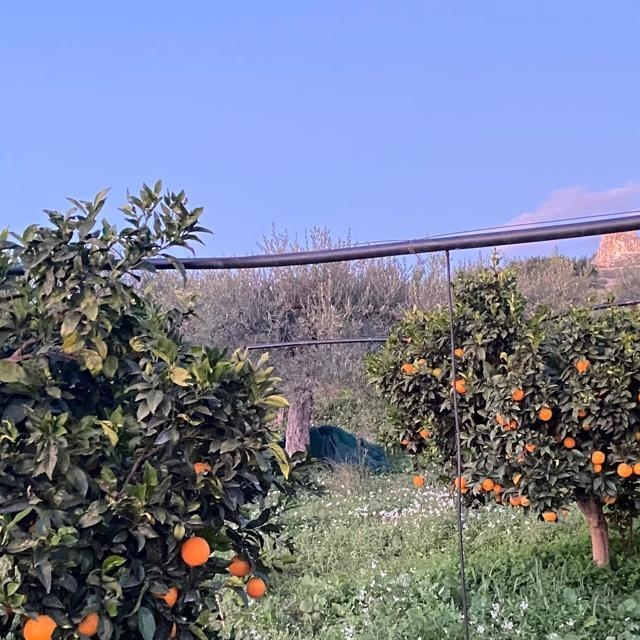orange: (23, 612, 57, 640), (181, 535, 209, 565), (78, 610, 100, 634), (227, 555, 249, 575), (451, 375, 471, 393), (400, 359, 424, 373), (162, 585, 178, 605), (454, 475, 474, 491), (246, 580, 266, 596), (573, 356, 591, 372), (616, 463, 634, 477), (194, 462, 214, 474), (412, 472, 426, 488), (537, 407, 553, 421), (0, 560, 8, 586), (482, 477, 496, 491), (504, 418, 518, 432), (563, 436, 579, 448), (524, 442, 540, 454), (591, 451, 607, 463), (543, 510, 557, 522), (510, 389, 524, 401), (418, 426, 430, 438), (495, 414, 509, 424), (510, 496, 522, 506), (521, 496, 531, 508), (453, 347, 467, 355), (432, 369, 442, 377), (575, 408, 585, 416), (493, 483, 501, 493), (591, 466, 603, 472), (603, 496, 615, 502), (635, 462, 640, 474), (637, 386, 640, 404), (398, 440, 410, 444), (636, 434, 640, 442)
